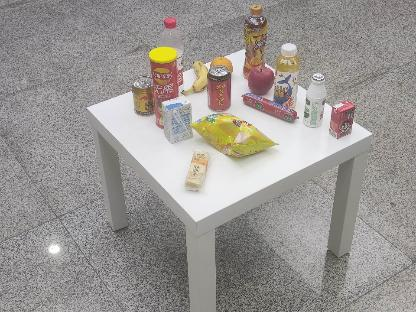Can: (206, 65, 233, 113), (132, 76, 156, 116)
Others: (148, 47, 180, 128), (158, 95, 198, 146), (324, 99, 358, 141)
Plastic Bottle: (157, 17, 184, 89), (273, 43, 301, 110), (244, 5, 268, 75)
